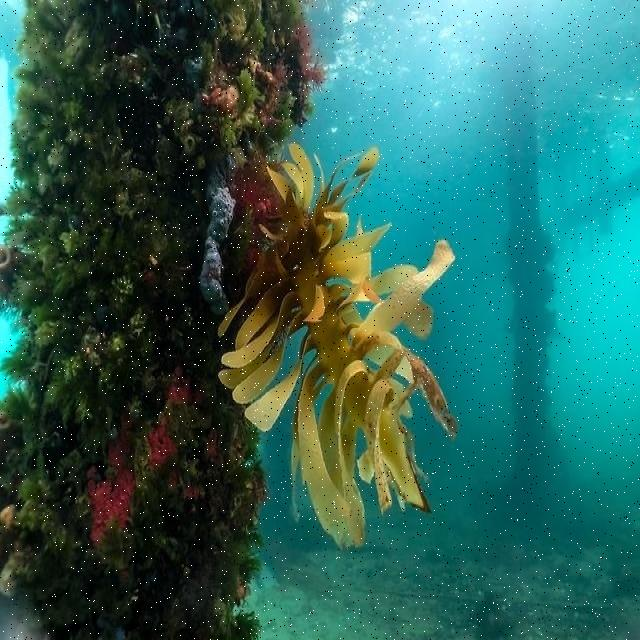aquatic plants: (217, 141, 457, 549)
reefs: (0, 0, 325, 638)
wrecks-ruins: (480, 30, 573, 526)
